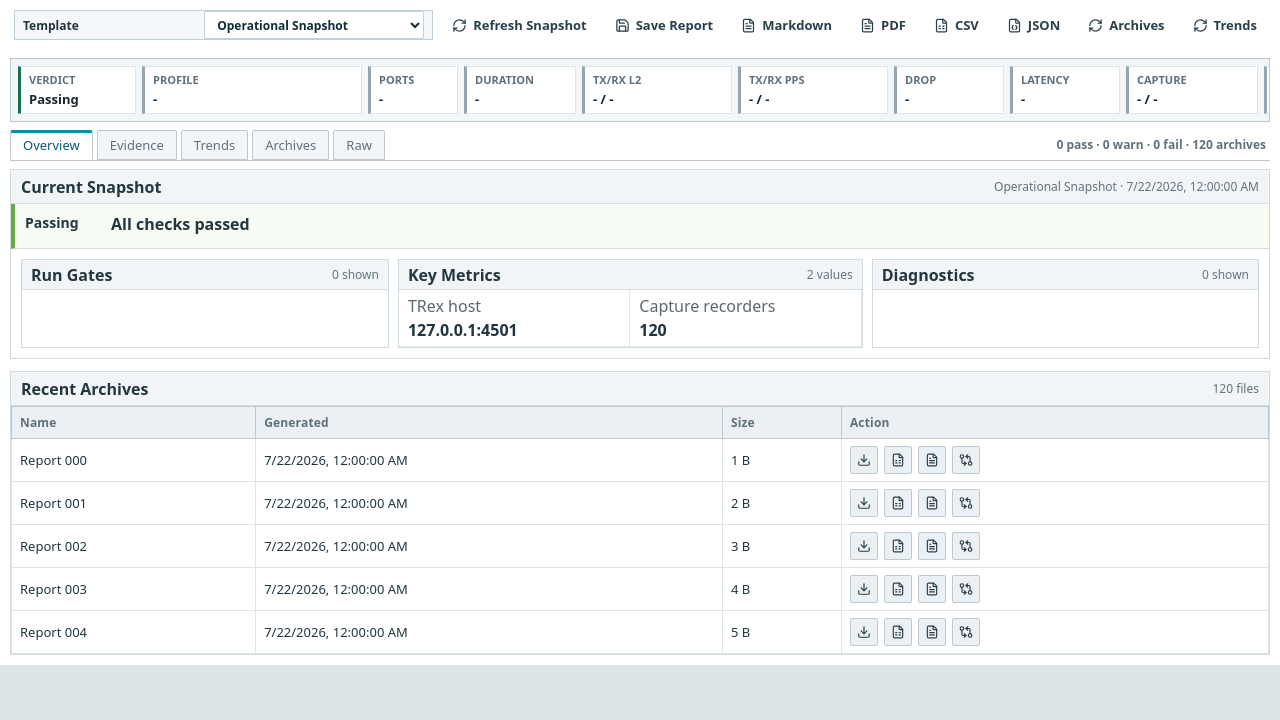
RunReportsWorkspace › separates archive verdicts from metric drift and normalizes trend values
This screenshot has width=1280, height=720.
What coordinates should you click on to do the following:
click the tab "Trends"
I would click on:
 (214, 145)
Its box is [181,130,248,160].
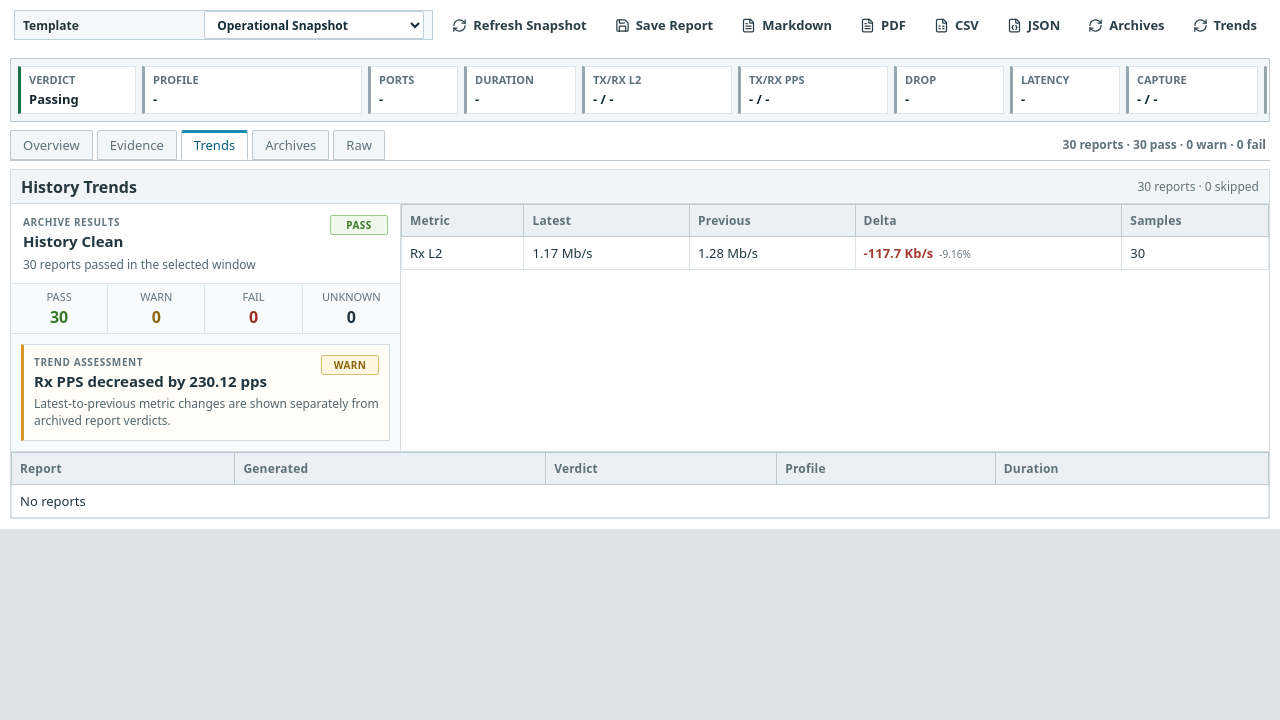
Check: the text "History Clean" is shown, box [23,232,124,251]
Check: the text "30 reports passed in the selected window" is shown, box [23,256,256,273]
Check: the text "30 reports · 30 pass · 0 warn · 0 fail" is shown, box [1063,136,1266,153]
